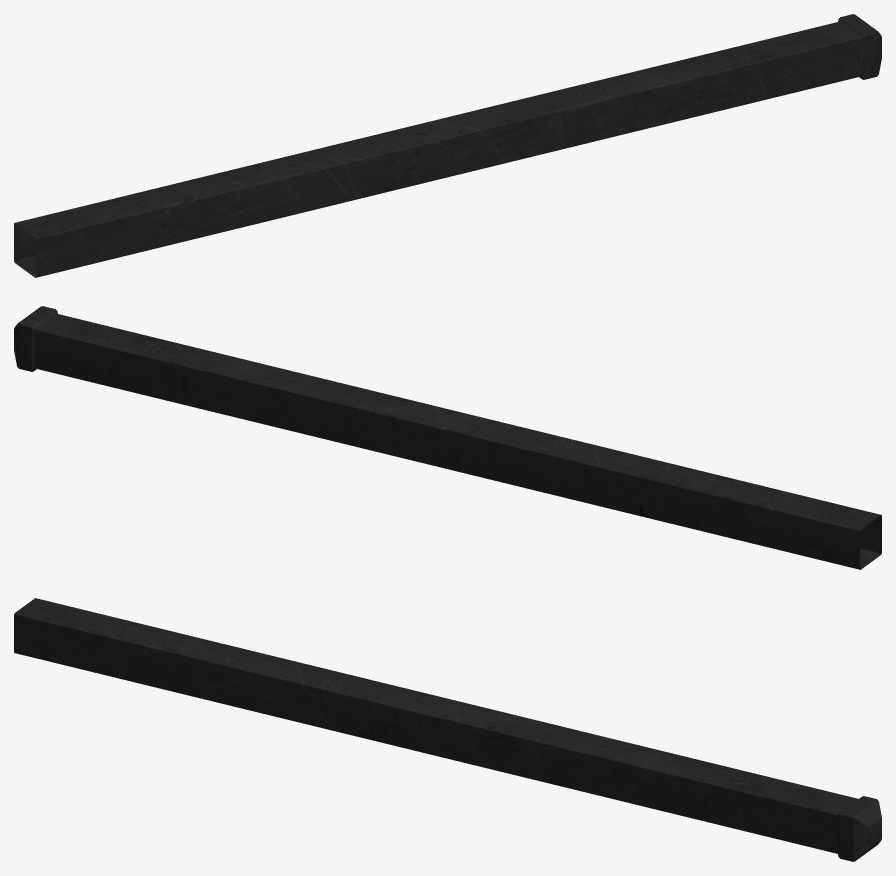
Rendered from cP_Fence02_Post.dae.
3 views of the same model, one above another, from view 1: azimuth 30°, elevation 25°; view 2: azimuth 150°, elevation 25°; view 3: azimuth 330°, elevation 25° (orthographic).
Parts seen in each view (by area): view 1: cP_Fence02_Post.001; view 2: cP_Fence02_Post.001; view 3: cP_Fence02_Post.001.
Boxes of the visible parts, box(x1,y1,x2,y2) form: cP_Fence02_Post.001: box(14, 14, 881, 277); cP_Fence02_Post.001: box(14, 306, 881, 569); cP_Fence02_Post.001: box(14, 598, 881, 861).
Bounding box in the file's own units: 2.28 × 0.1165 × 0.1165.
